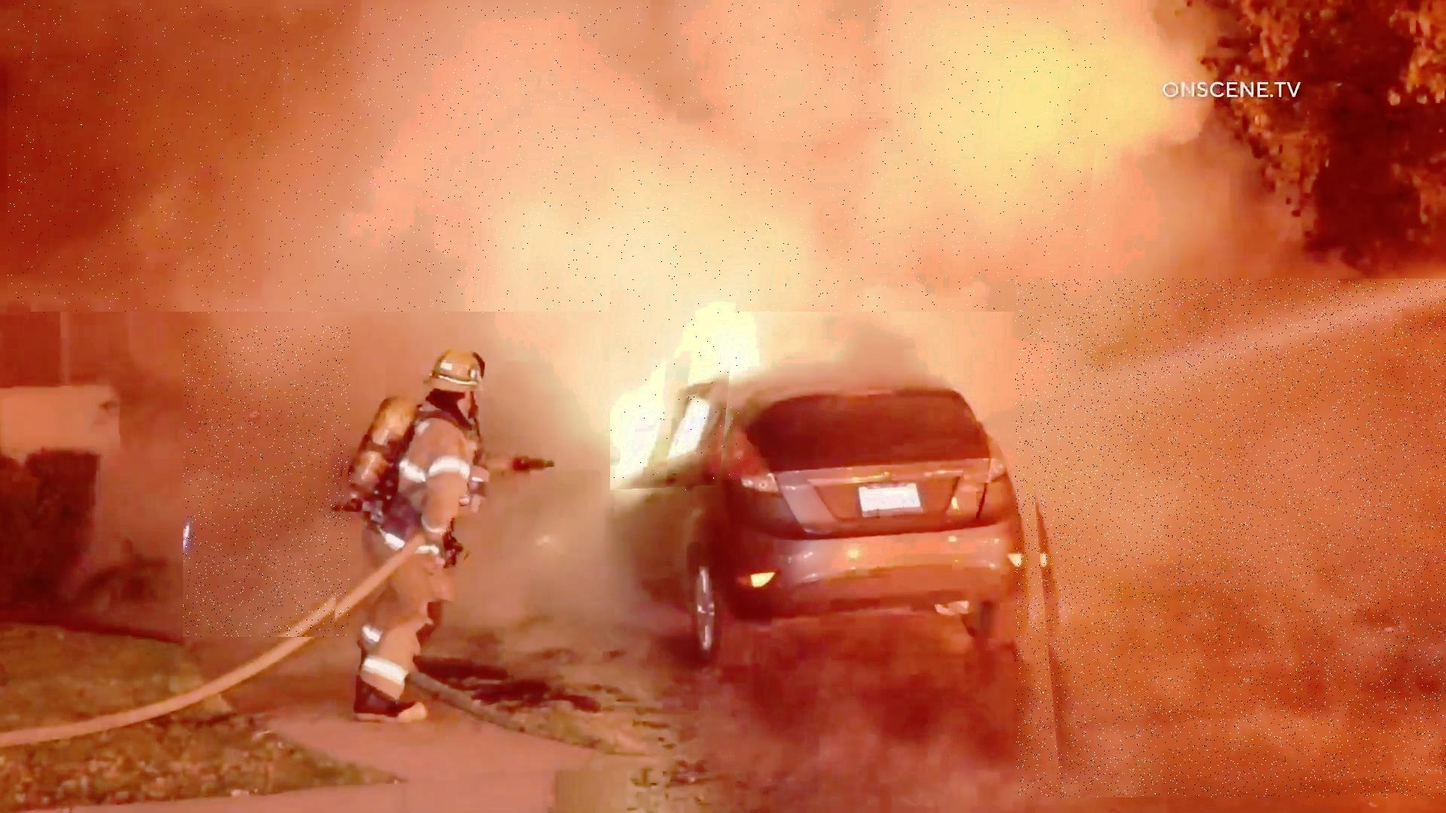fire: (611, 292, 740, 491)
smoke: (8, 4, 1109, 314), (1015, 279, 1446, 798), (183, 326, 350, 637)
